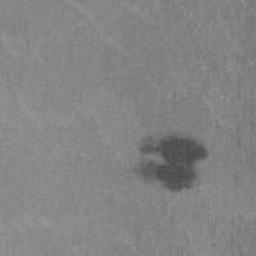Oil spot: (128, 132, 211, 195)
